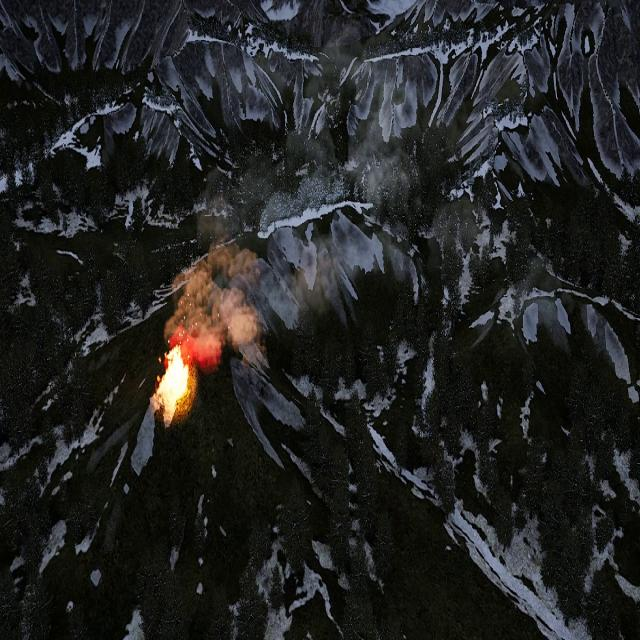fire: (153, 343, 191, 416)
smoke: (166, 19, 479, 366)
